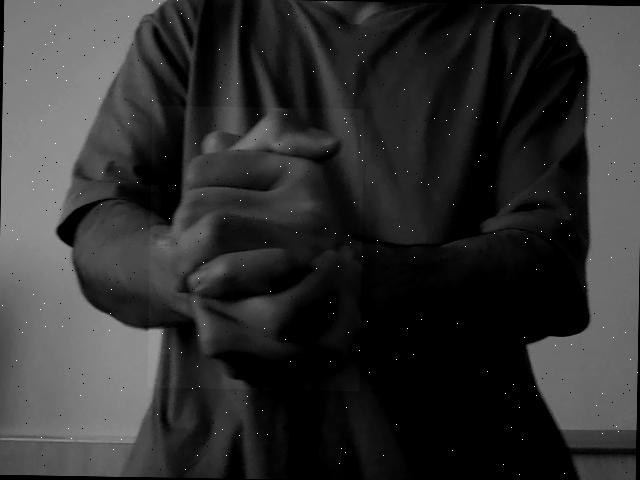friend: (150, 108, 362, 389)
